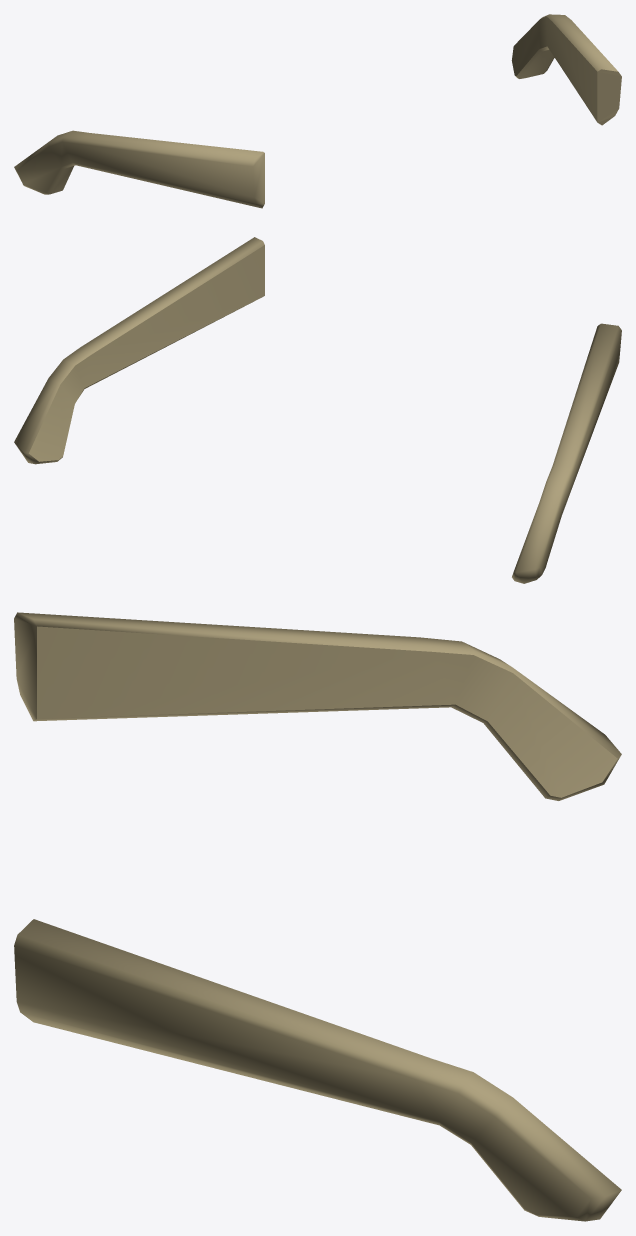
The model's file is glassesBracing.obj.
3 views of the same model, one above another, from view 1: azimuth 30°, elevation 25°; view 2: azimuth 150°, elevation 25°; view 3: azimuth 270°, elevation 25° (orthographic). The views are drawn at different scales.
Parts seen in each view (by area): view 1: Body__mBody; view 2: Body__mBody; view 3: Body__mBody.
Part boxes in pixels (x1=…): Body__mBody: x1=14, y1=14, x2=621, y2=208; Body__mBody: x1=14, y1=237, x2=621, y2=583; Body__mBody: x1=14, y1=612, x2=621, y2=1221.
Bounding box in the file's own units: 0.1656 × 0.0393 × 0.0918.
